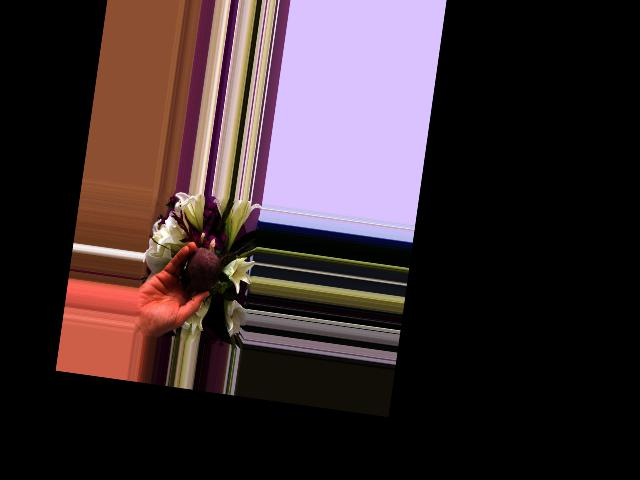beet: (178, 228, 255, 298)
